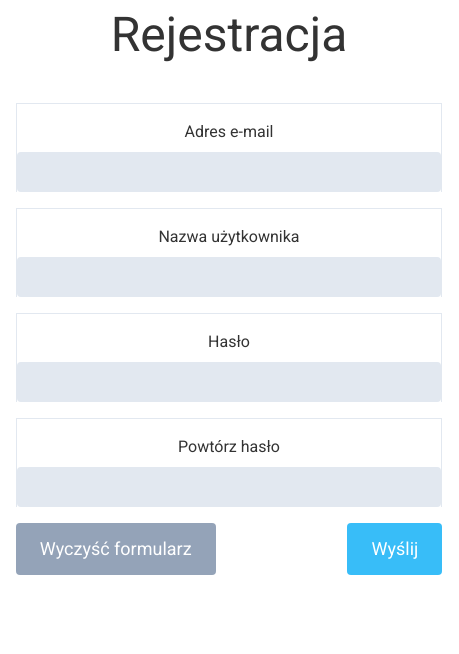
it: Register › should display error when email is already in use
The width and height of the screenshot is (459, 654).
In the field labelled "Adres e-mail": (229, 172) 17,152 -> 441,192, type "test@email"
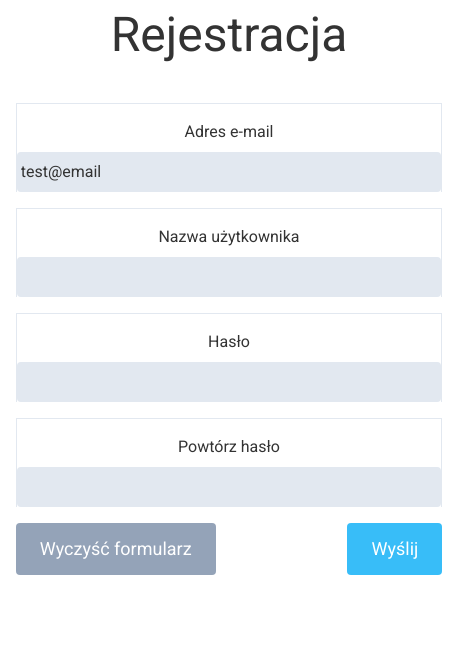
In the field labelled "Nazwa użytkownika": (229, 277) 17,257 -> 441,297, type "username"
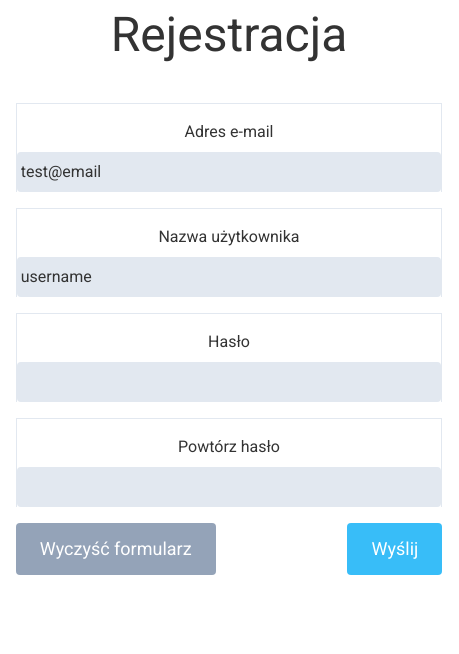
In the password field labelled "Hasło": (229, 382) 17,362 -> 441,402, type "password"
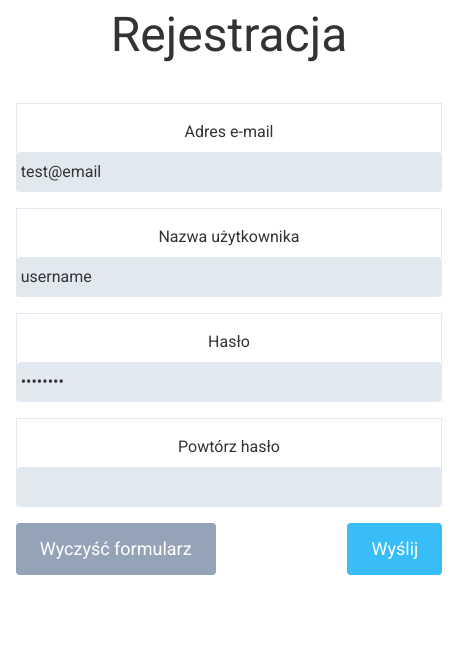
In the password field labelled "Powtórz hasło": (229, 487) 17,467 -> 441,507, type "password"
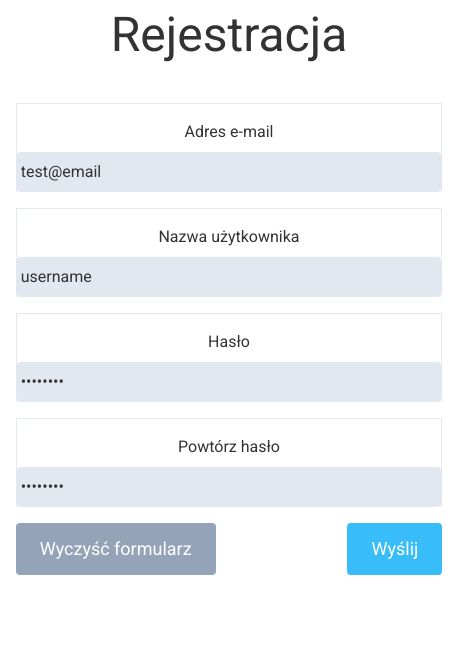
Click the button "Wyślij": (395, 549) 348,523 -> 442,575
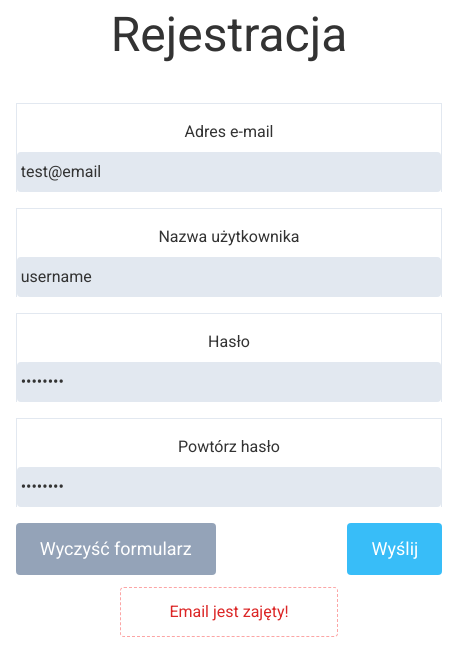
Now the text "Email jest zajęty!" is shown, box 120,587 -> 338,637
